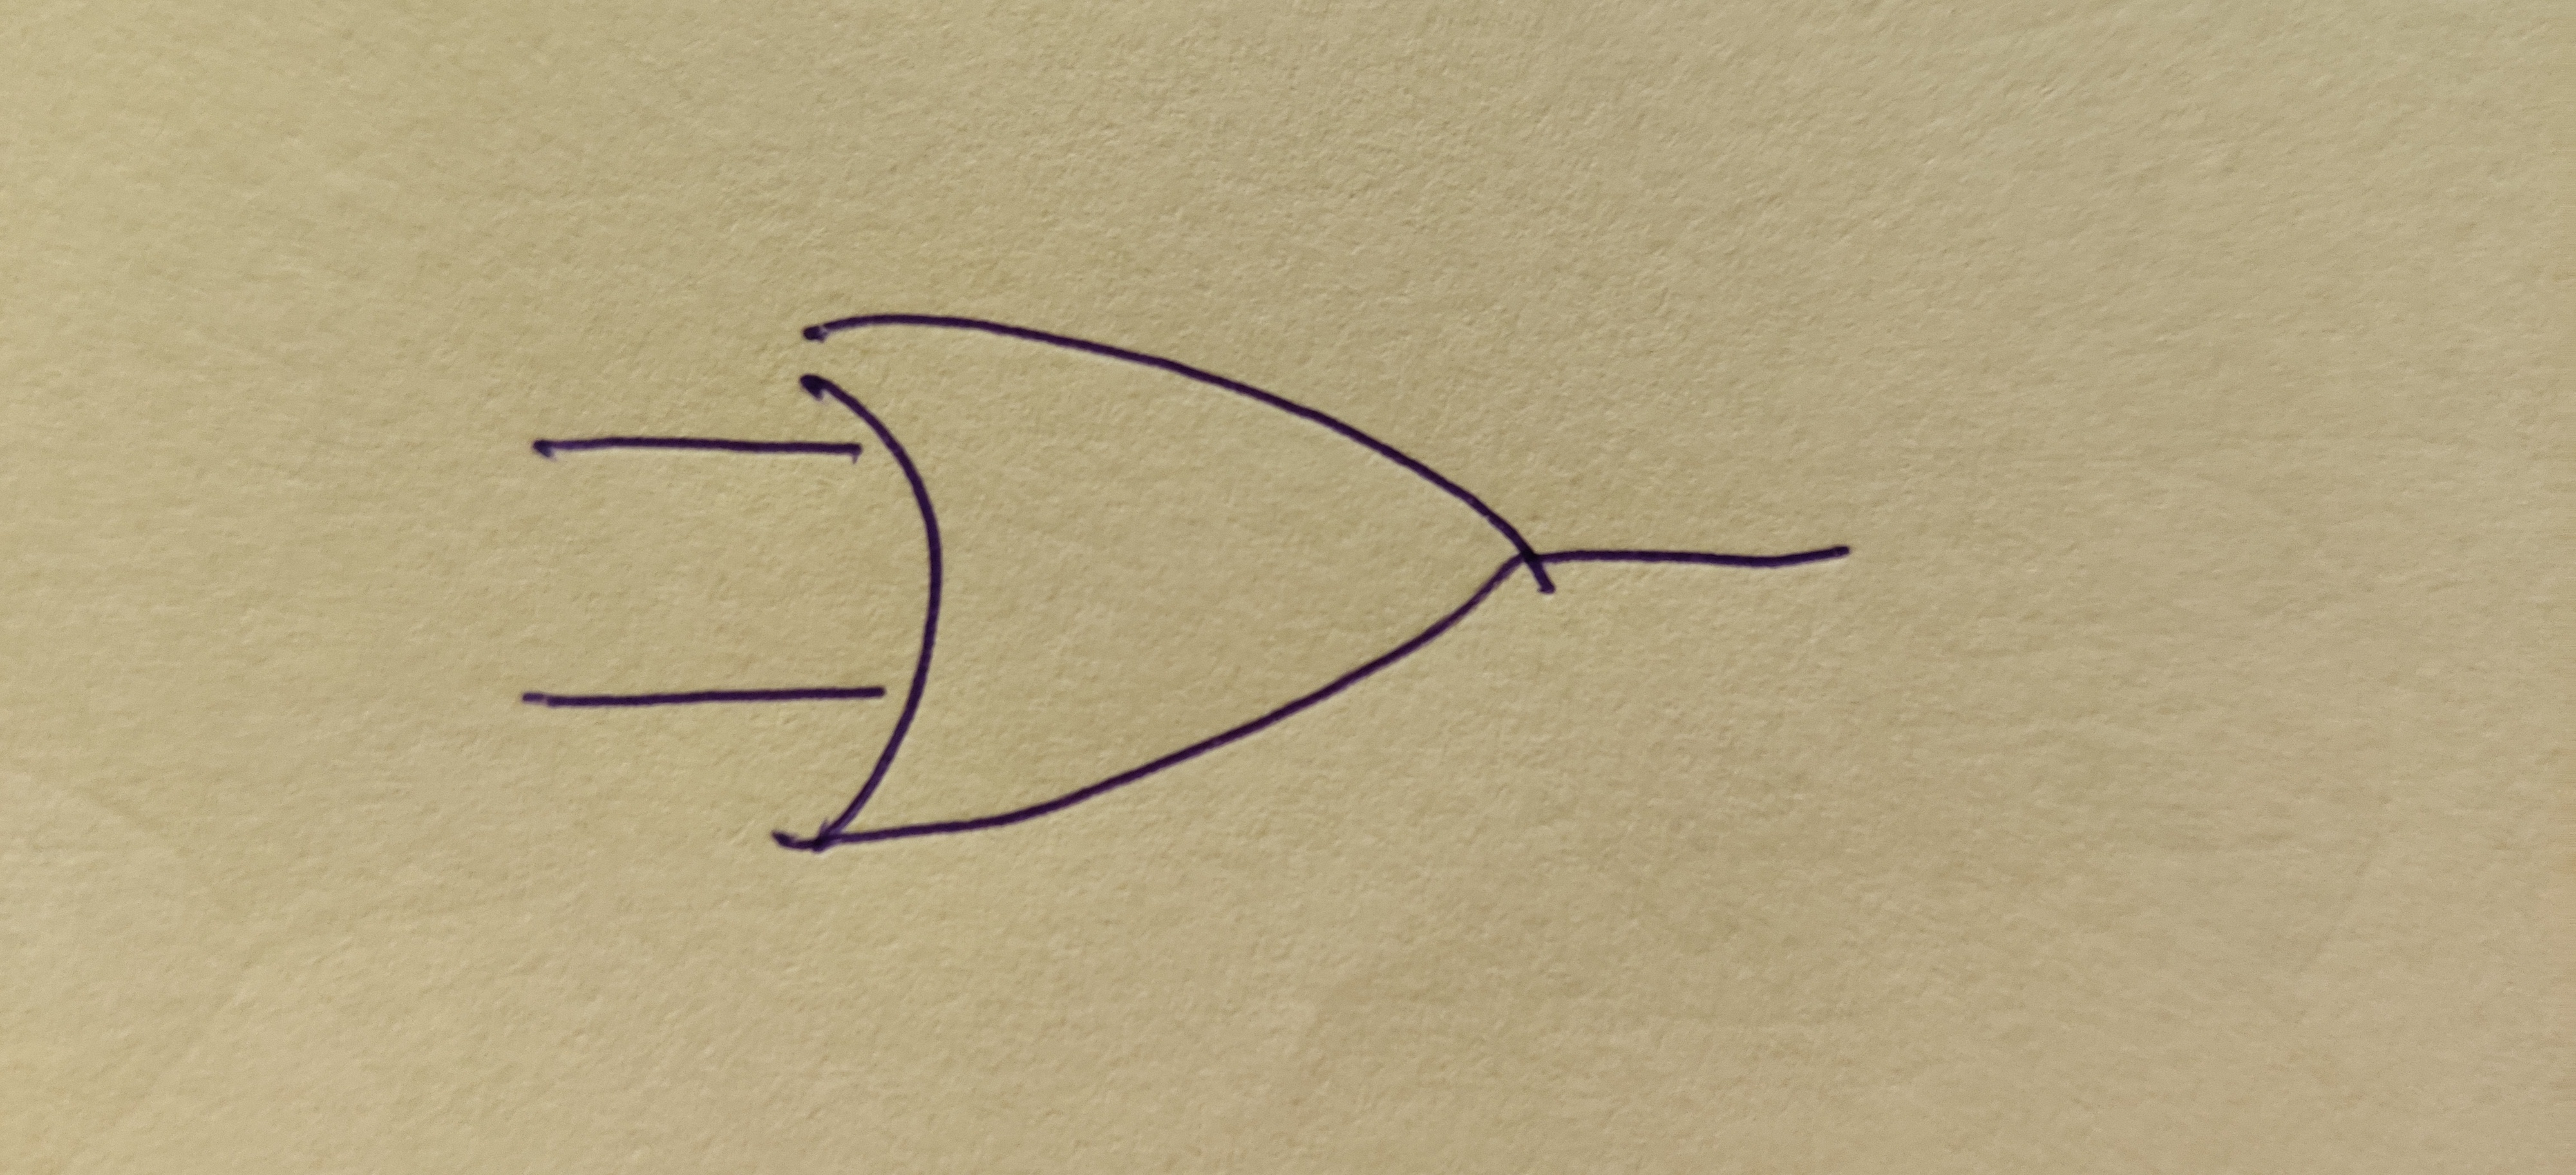or: (803, 316, 1534, 846)
